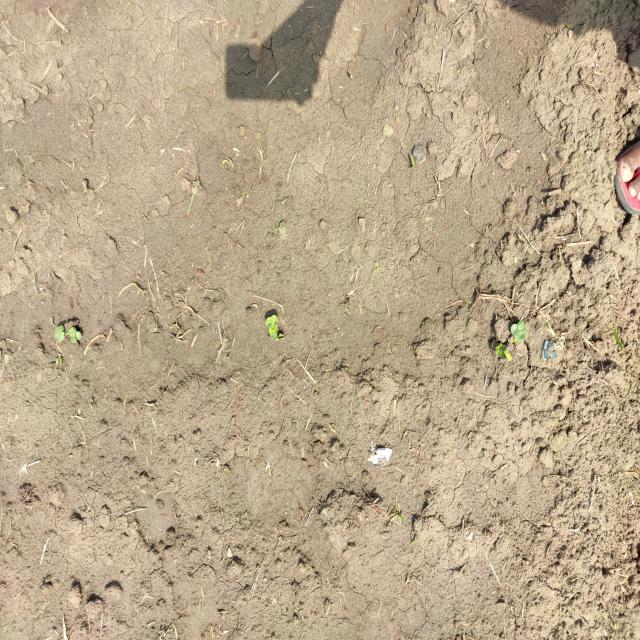seedling_s1: (510, 324, 526, 342), (71, 331, 82, 344), (265, 315, 278, 326), (517, 320, 526, 334), (54, 332, 65, 342), (498, 345, 506, 357), (268, 324, 278, 333), (54, 326, 64, 334), (69, 327, 77, 337), (272, 331, 277, 339)
